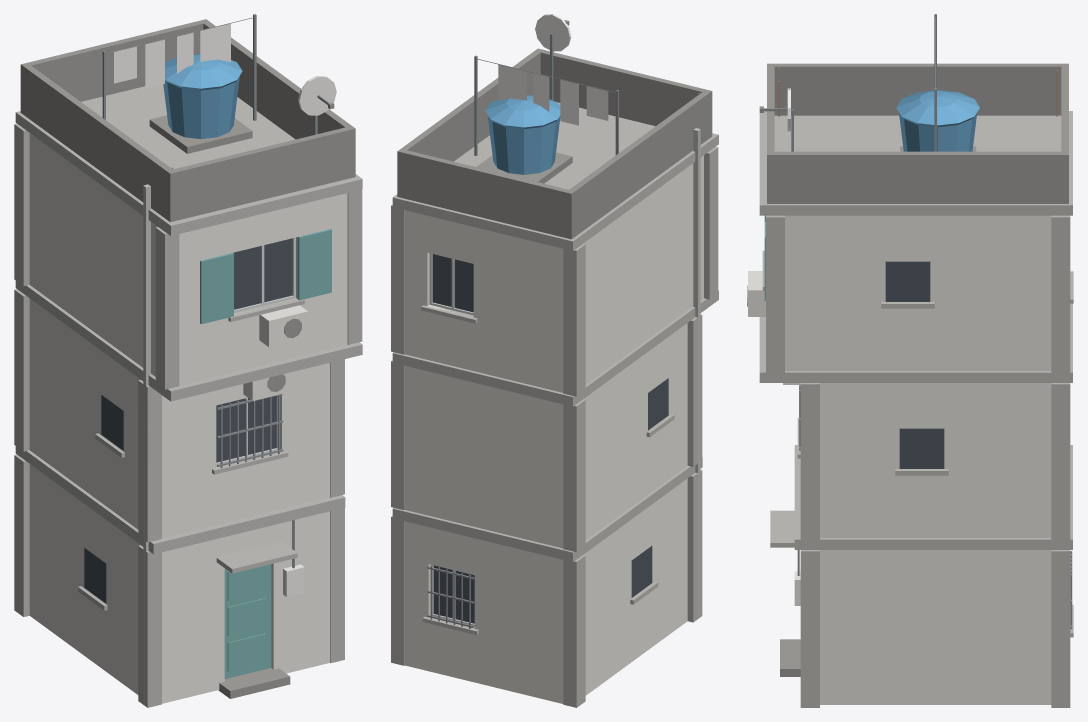
3 views of the same model, side by side, from view 1: azimuth 30°, elevation 25°; view 2: azimuth 150°, elevation 25°; view 3: azimuth 270°, elevation 25° (orthographic). The views are drawn at different scales.
Parts seen in each view (by area): view 1: fv_h08; view 2: fv_h08; view 3: fv_h08.
Boxes of the visible parts, left/top/right/bottom form: fv_h08: left=14, top=14, right=362, bottom=707; fv_h08: left=391, top=14, right=718, bottom=707; fv_h08: left=747, top=14, right=1073, bottom=707.
Size of the model in its own units: 3.62 by 10.57 by 5.13.
